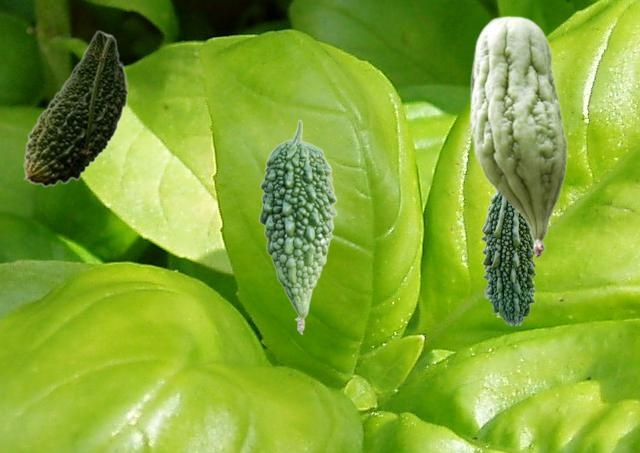ampalaya: (469, 15, 567, 257), (258, 119, 336, 334), (23, 30, 128, 186), (480, 192, 536, 324)
